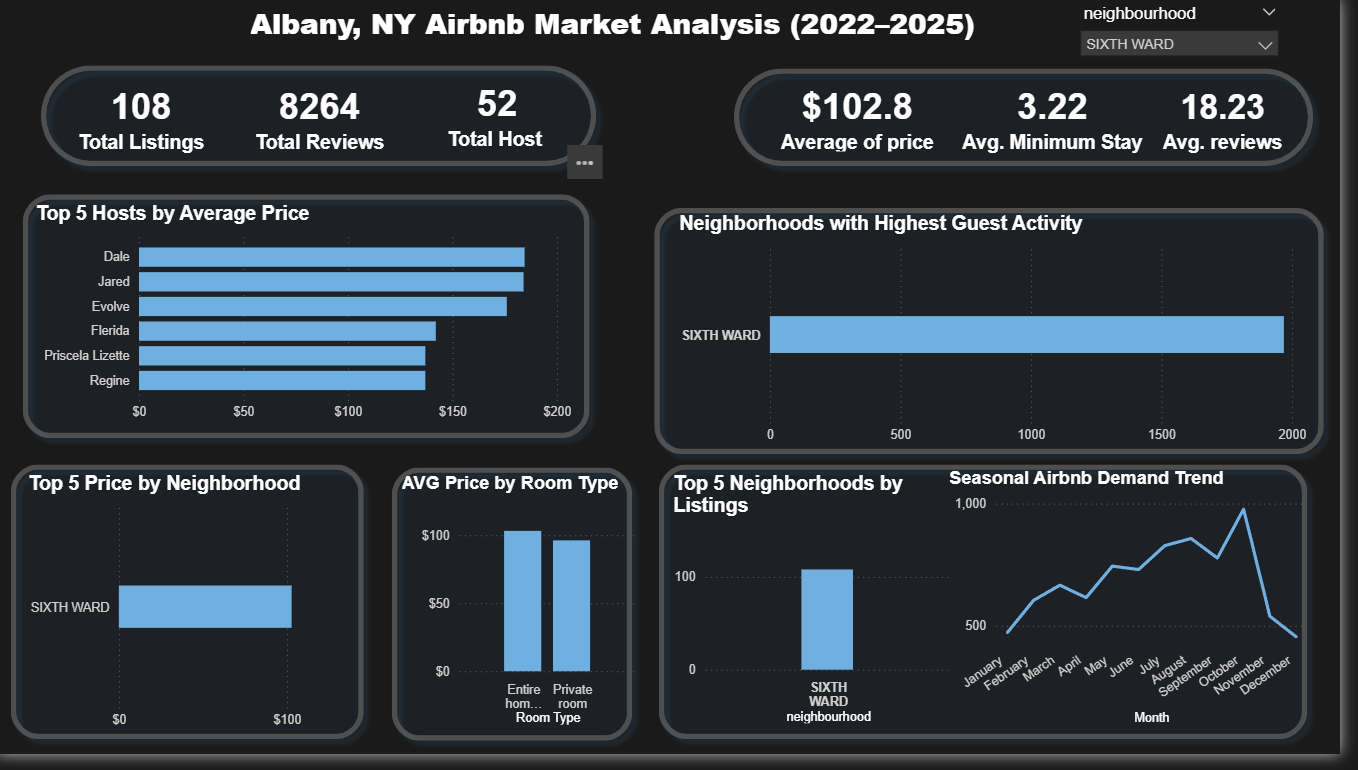

The dashboard page shown, as its layout file describes it:
{"tool":"powerbi","page":{"name":"Page 1","canvas":[1280,720],"ordinal":0},"visuals":[{"type":"group","id":"g1","title":"Group 1","box":[1.6,51.4,1276.1,666.5],"z":0},{"type":"shape","box":[29.7,51.4,554.3,121.4],"z":0,"group":"g1"},{"type":"card","fields":{"Values":["Count(listings.id)"]},"box":[38.6,67.1,198.6,88.6],"z":1000},{"type":"shape","box":[13.2,174.5,565,257.5],"z":1000,"group":"g1"},{"type":"textbox","box":[237.1,0,717.1,65.7],"z":2000},{"type":"shape","box":[689.7,53.9,577.1,118.6],"z":2000,"group":"g1"},{"type":"slicer","fields":{"Values":["listings.neighbourhood"]},"box":[1022.9,0,208.6,65.7],"z":3000},{"type":"shape","box":[614.9,186.5,662.9,260],"z":4000,"group":"g1"},{"type":"barChart","title":"Top 5 Hosts by Average Price","fields":{"Category":["listings.host_name"],"Y":["Avg(listings.price)"]},"box":[32.9,194.3,520,215.7],"z":4000},{"type":"shape","box":[619.2,430.8,642.9,287.1],"z":5000,"group":"g1"},{"type":"barChart","title":"Top 5 Price by Neighborhood","fields":{"Category":["listings.neighbourhood"],"Y":["Avg(listings.price)"]},"box":[25.7,451.4,350,251.4],"z":5000},{"type":"shape","box":[1.6,430.8,361.4,287.1],"z":6000,"group":"g1"},{"type":"shape","box":[364.3,434.3,254.3,285.7],"z":6000},{"type":"clusteredBarChart","title":"Neighborhoods with Highest Guest Activity","fields":{"Category":["listings.neighbourhood"],"Y":["Sum(listings.number_of_reviews_ltm)"]},"box":[645.7,204.3,607.1,227.1],"z":7000},{"type":"columnChart","title":"Top 5 Neighborhoods by Listings","fields":{"Category":["listings.neighbourhood"],"Y":["CountNonNull(listings.id)"]},"box":[640,451.4,274.3,244.3],"z":8000},{"type":"clusteredColumnChart","title":"AVG Price by Room Type","fields":{"Category":["listings.room_type"],"Y":["Avg(listings.price)"]},"box":[381.4,451.4,232.9,245.7],"z":9000},{"type":"card","fields":{"Values":["Count(listings.host_id)"]},"box":[375.7,64.3,202.9,90],"z":10000},{"type":"card","fields":{"Values":["Avg(listings.minimum_nights)"]},"box":[914.3,67.1,182.9,88.6],"z":11000},{"type":"card","fields":{"Values":["Avg(listings.price)"]},"box":[737.1,72.9,165.7,78.6],"z":12000},{"type":"card","fields":{"Values":["Avg(listings.number_of_reviews_ltm)"]},"box":[1082.9,67.1,170,92.9],"z":13000},{"type":"card","fields":{"Values":["Sum(listings.number_of_reviews)"]},"box":[208.6,67.1,198.6,88.6],"z":14000},{"type":"lineChart","title":"Seasonal Airbnb Demand Trend","fields":{"Category":["reviews.date.Variation.Date Hierarchy.Month"],"Y":["CountNonNull(reviews.listing_id)"]},"box":[902.9,447.1,350,250],"z":15000}]}

Visuals, with their boxes in screenshot pixels (x1, y1, x2, y2), scaled from the page's 1280x720 canvas onto the 1358x770 screenshot:
"Group 1" group: box=[2, 55, 1356, 768]
shape: box=[32, 55, 620, 185]
card - Count(listings.id): box=[41, 72, 252, 167]
shape: box=[14, 187, 613, 462]
textbox: box=[252, 0, 1012, 70]
shape: box=[732, 58, 1344, 184]
slicer - listings.neighbourhood: box=[1085, 0, 1307, 70]
shape: box=[652, 199, 1356, 478]
"Top 5 Hosts by Average Price" barChart: box=[35, 208, 587, 438]
shape: box=[657, 461, 1339, 768]
"Top 5 Price by Neighborhood" barChart: box=[27, 483, 399, 752]
shape: box=[2, 461, 385, 768]
shape: box=[386, 464, 656, 769]
"Neighborhoods with Highest Guest Activity" clusteredBarChart: box=[685, 218, 1329, 461]
"Top 5 Neighborhoods by Listings" columnChart: box=[679, 483, 970, 744]
"AVG Price by Room Type" clusteredColumnChart: box=[405, 483, 652, 746]
card - Count(listings.host_id): box=[399, 69, 614, 165]
card - Avg(listings.minimum_nights): box=[970, 72, 1164, 167]
card - Avg(listings.price): box=[782, 78, 958, 162]
card - Avg(listings.number_of_reviews_ltm): box=[1149, 72, 1329, 171]
card - Sum(listings.number_of_reviews): box=[221, 72, 432, 167]
"Seasonal Airbnb Demand Trend" lineChart: box=[958, 478, 1329, 746]
